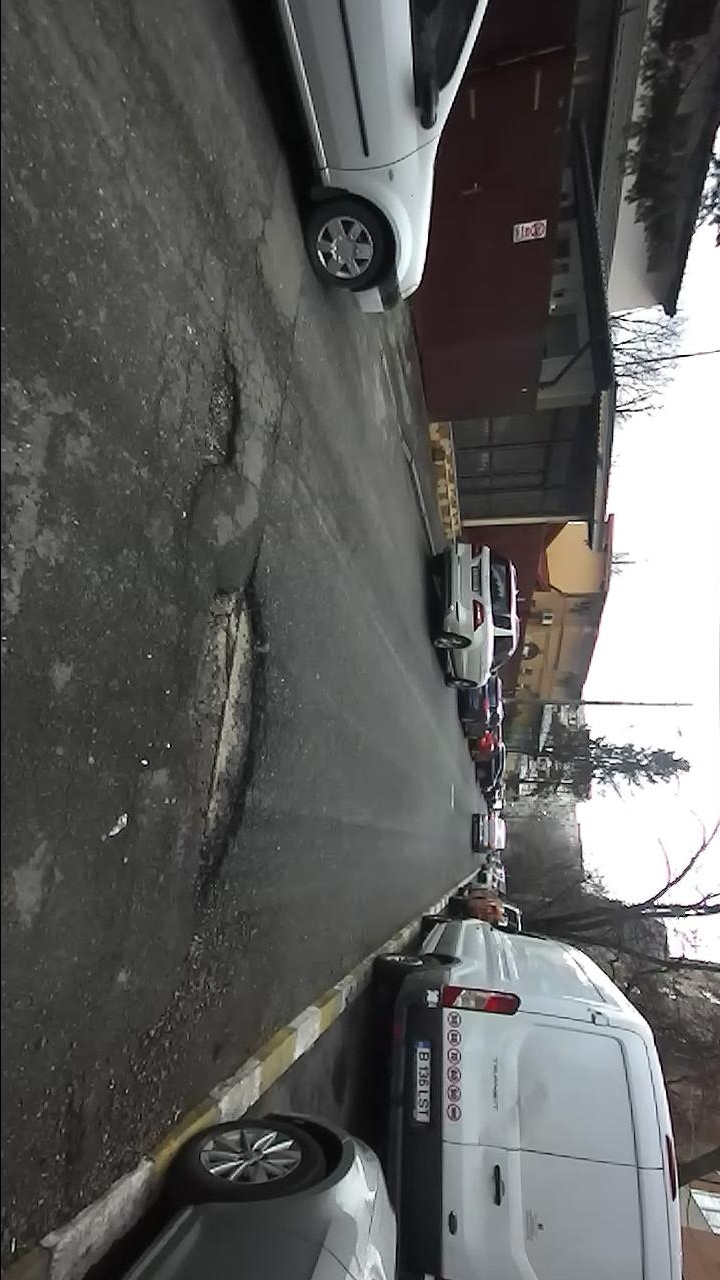pothole: (167, 563, 276, 920), (185, 337, 248, 513)
